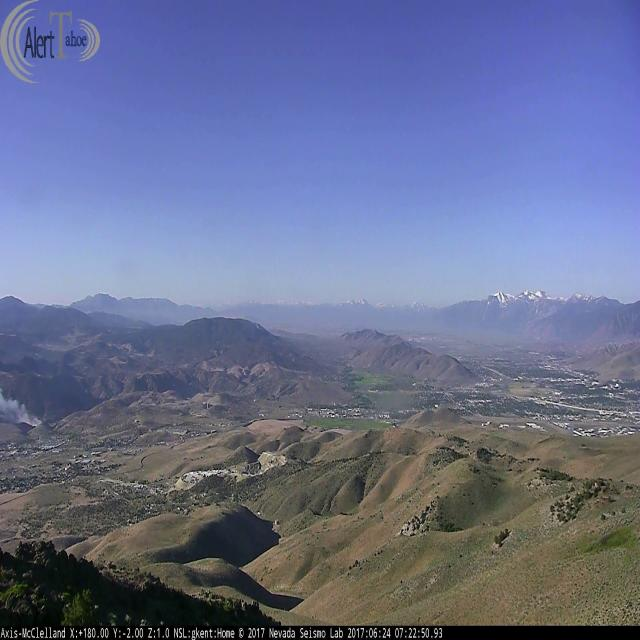smoke: (0, 390, 46, 430)
